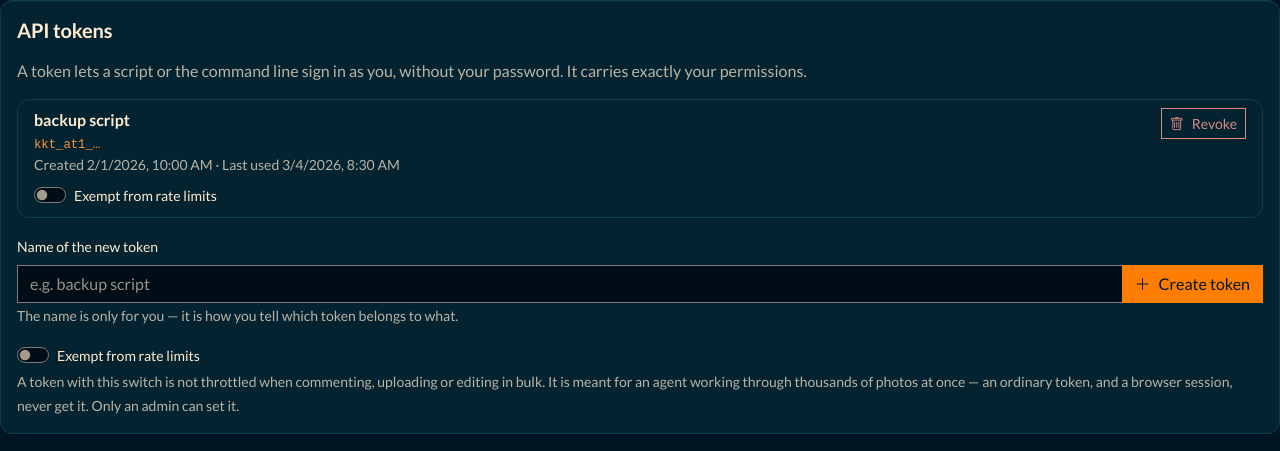
Test: ApiTokensCard rate-limit exemption › turns the flag on from a row and keeps it there
Expected: the text "backup script" is shown, [34,108,130,132]
Click the checkbox labelled "Exempt from rate limits" below "Created 2/1/2026, 10:00 AM" at (50, 195), box [34,187,66,203]
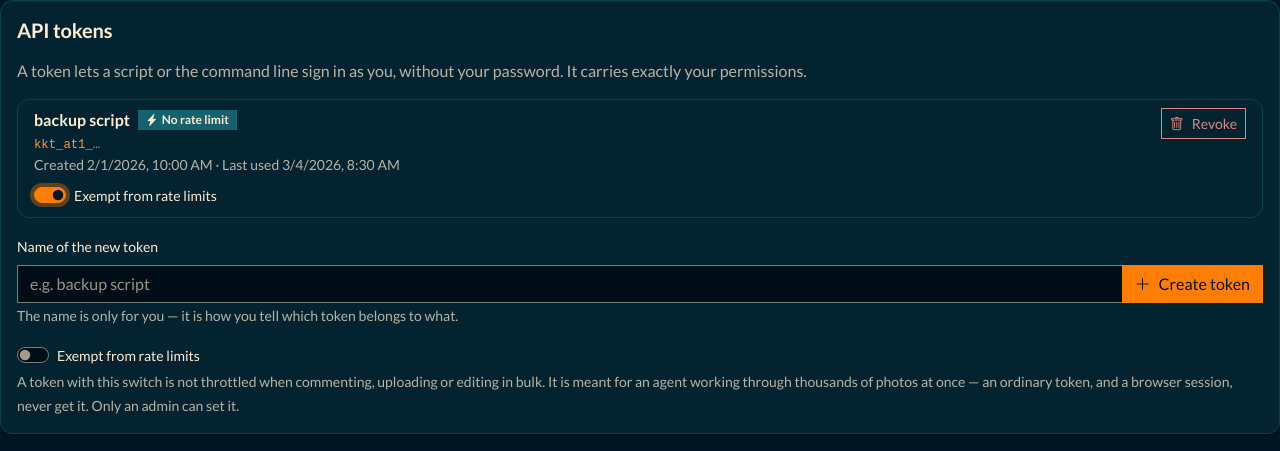
Expected: the checkbox labelled "Exempt from rate limits" below "Created 2/1/2026, 10:00 AM" is checked, [34,187,66,203]
Expected: the text "No rate limit" is shown, [138,110,237,130]
